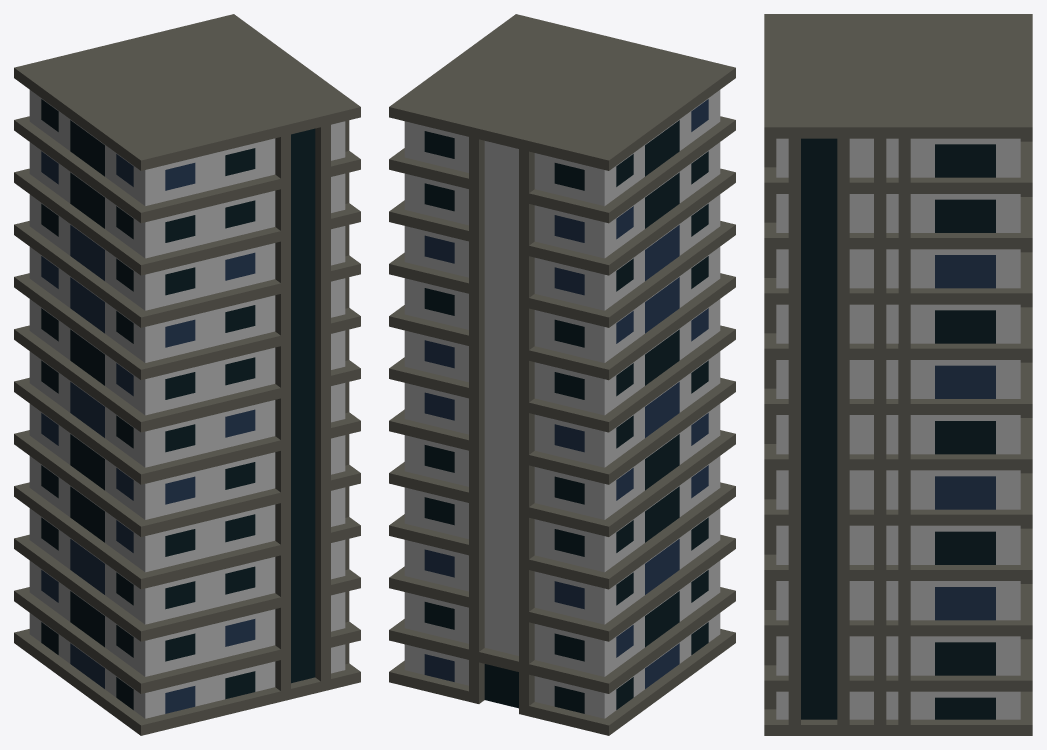
The model's file is SkyScraper1.fbx.
3 views of the same model, side by side, from view 1: azimuth 30°, elevation 25°; view 2: azimuth 150°, elevation 25°; view 3: azimuth 270°, elevation 25° (orthographic). The views are drawn at different scales.
Parts seen in each view (by area): view 1: Untitled; view 2: Untitled; view 3: Untitled.
Part boxes in pixels (<box>): Untitled: <box>14,14,360,735</box>; Untitled: <box>389,14,735,735</box>; Untitled: <box>764,14,1032,735</box>.
Bounding box in the file's own units: 220 × 550 × 220.
Materials: 1 (1 with a texture image).
